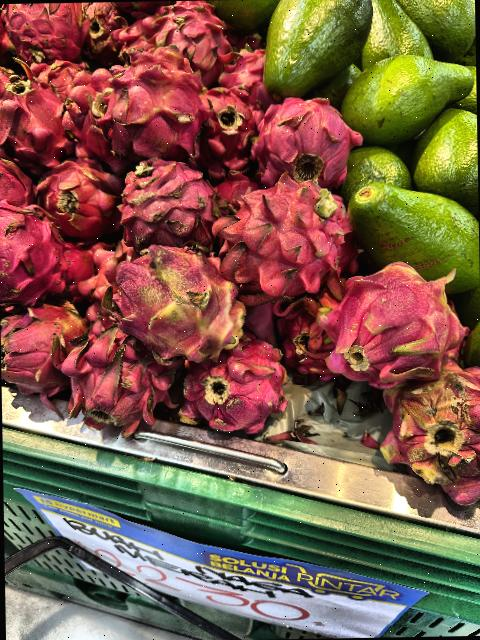buah-naga-belum-matang: (102, 237, 253, 359), (321, 263, 455, 384), (86, 55, 212, 152), (0, 307, 83, 406)
buah-naga-matang: (211, 168, 358, 288), (377, 358, 480, 496), (111, 154, 231, 270), (244, 95, 360, 195), (68, 331, 170, 443), (189, 336, 279, 442), (0, 195, 76, 309), (0, 64, 67, 173), (142, 0, 228, 80), (5, 3, 96, 70), (193, 78, 260, 168), (38, 156, 120, 228)
